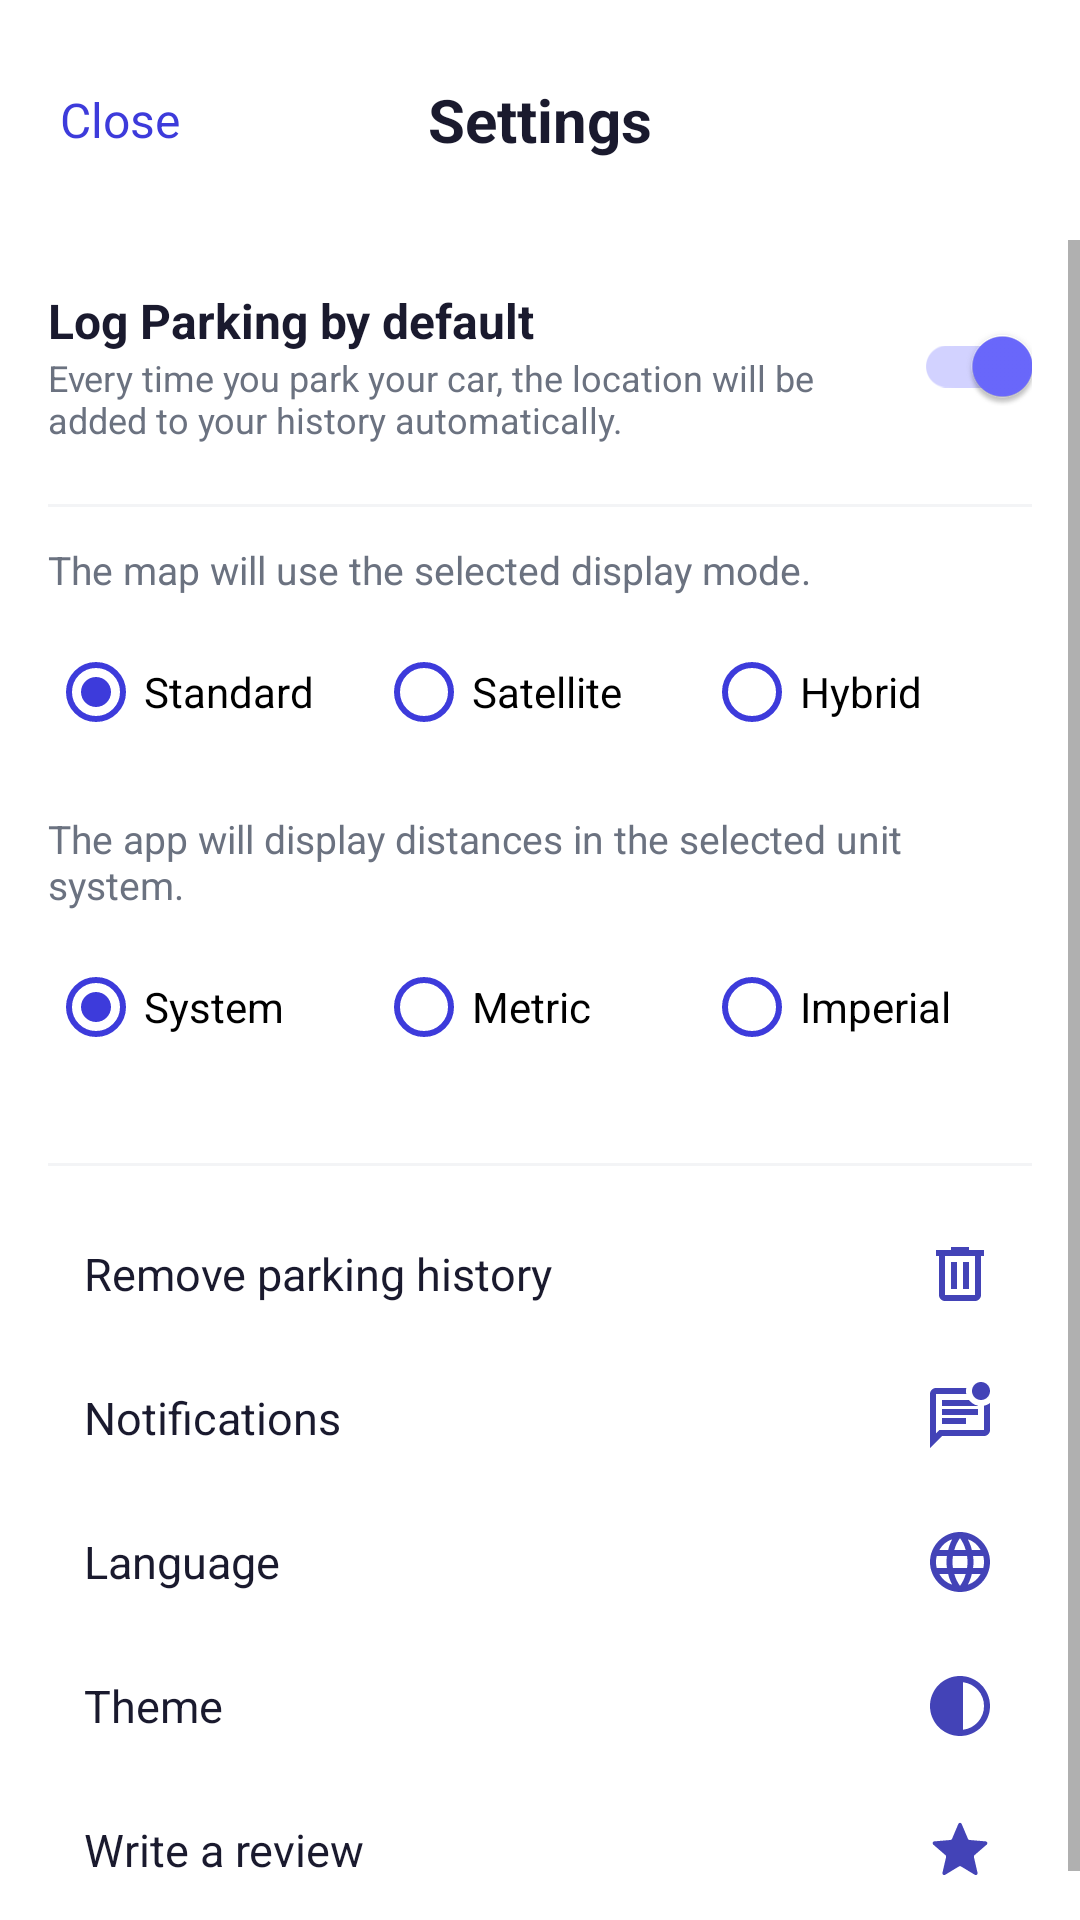

Icon bounding boxes for this 1080 × 1920 phone screenshot, format [x1, y1, x2, y2]:
Delete: [936, 1247, 984, 1301]
